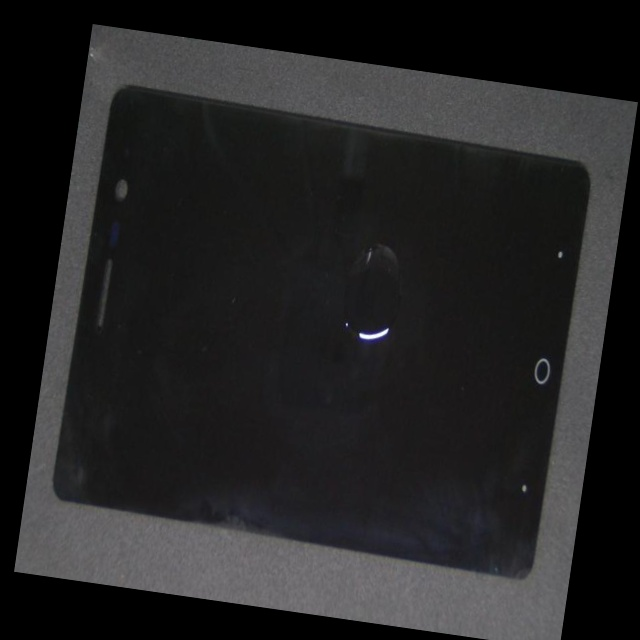oil: (228, 183, 592, 422)
